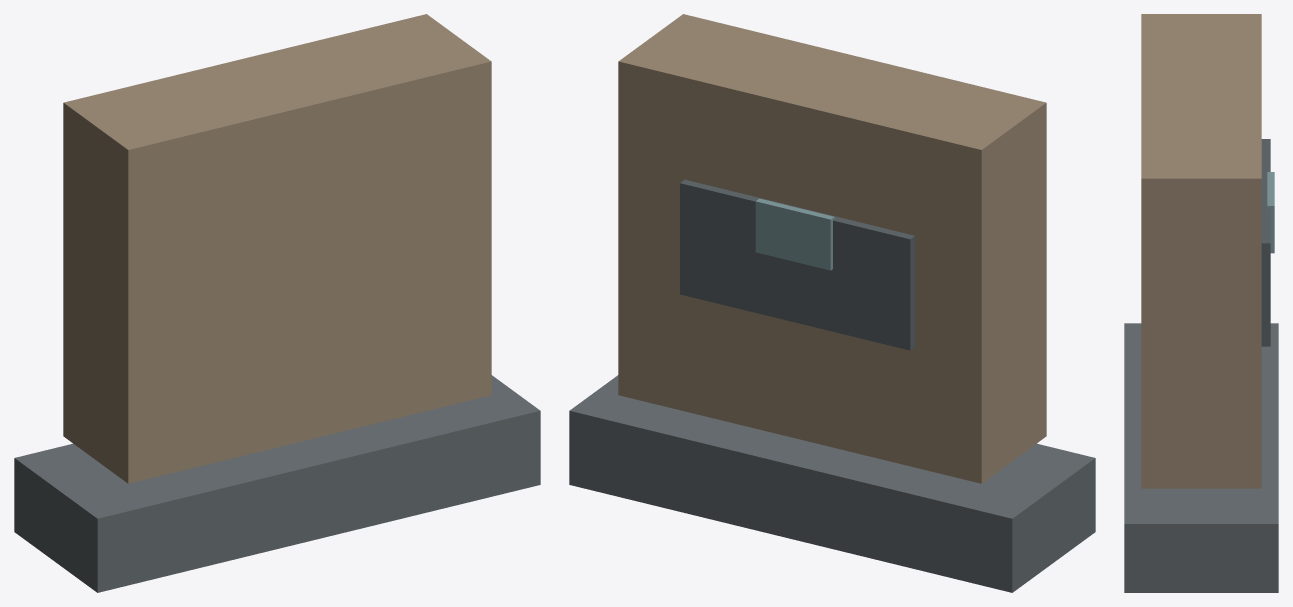
File: iz3_military_armory_02.glb
The picture shows the model from 3 angles, left to right: view 1: azimuth 30°, elevation 25°; view 2: azimuth 150°, elevation 25°; view 3: azimuth 270°, elevation 25°; orthographic projection. The views are drawn at different scales.
Parts seen in each view (by area): view 1: cabinet, base; view 2: cabinet, base, panel, display; view 3: cabinet, base, panel, display.
Part boxes in pixels (left/top/right/bottom): cabinet: left=63, top=14, right=491, bottom=483; base: left=14, top=375, right=540, bottom=592; cabinet: left=618, top=14, right=1046, bottom=483; base: left=569, top=375, right=1095, bottom=592; panel: left=680, top=179, right=915, bottom=350; display: left=755, top=198, right=834, bottom=270; cabinet: left=1141, top=14, right=1261, bottom=488; base: left=1124, top=323, right=1278, bottom=592; panel: left=1261, top=139, right=1270, bottom=346; display: left=1267, top=172, right=1274, bottom=253.
Bounding box in the file's own units: 2 × 1.84 × 0.65.
